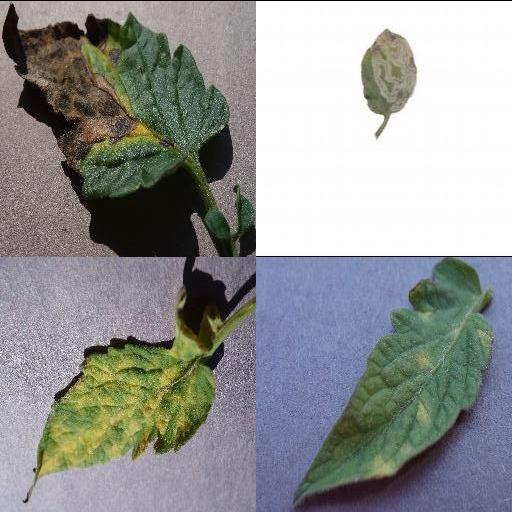Early Blight: (11, 14, 229, 194)
Leaf Miner: (362, 28, 419, 116)
Leaf Mold: (290, 256, 494, 505), (23, 286, 215, 501)
